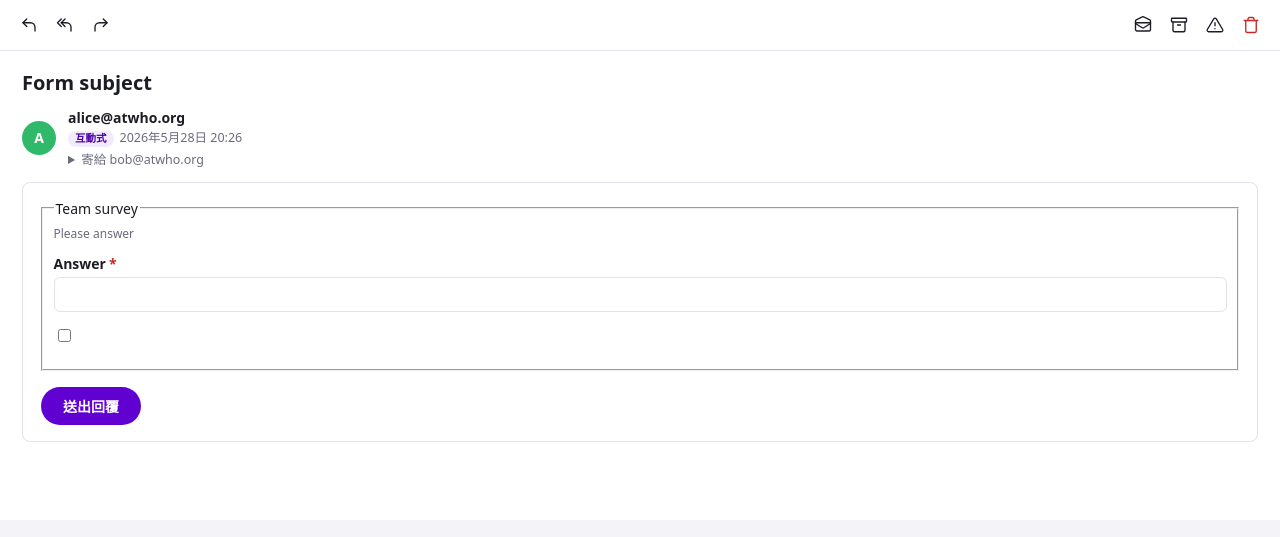
Test: ReadingPane：互動式表單 › GET 成功 → 渲染 RJSF；送出回覆打自家 responses API
Type "my reply" into the field labelled "Answer*" at (640,295), box [54,277,1226,312]
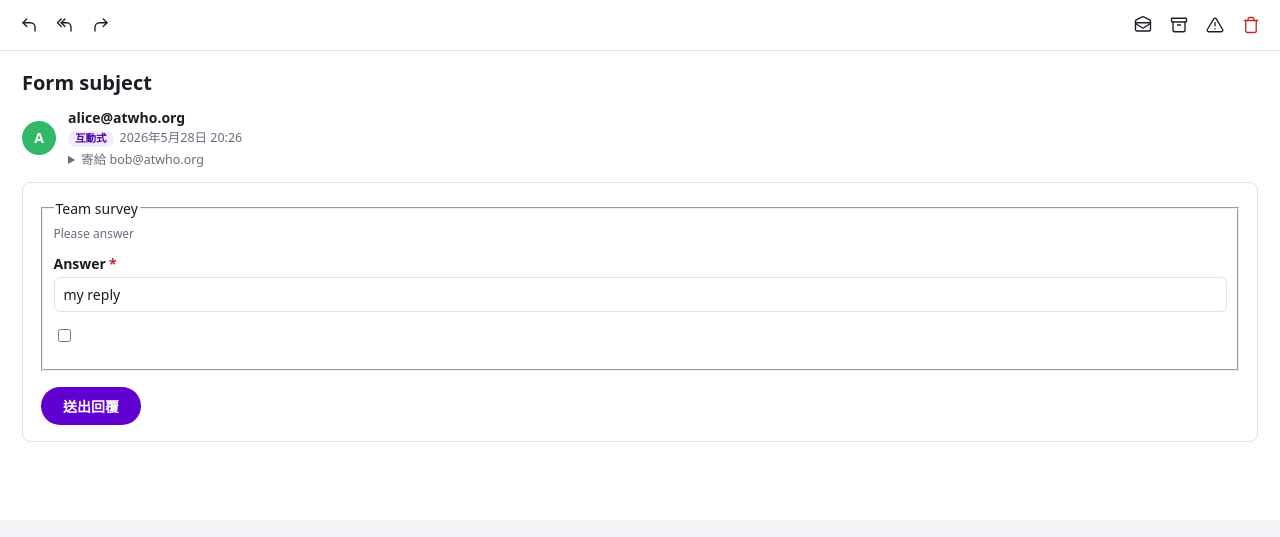
Click the button "送出回覆" at (91,406), box [41,387,141,425]
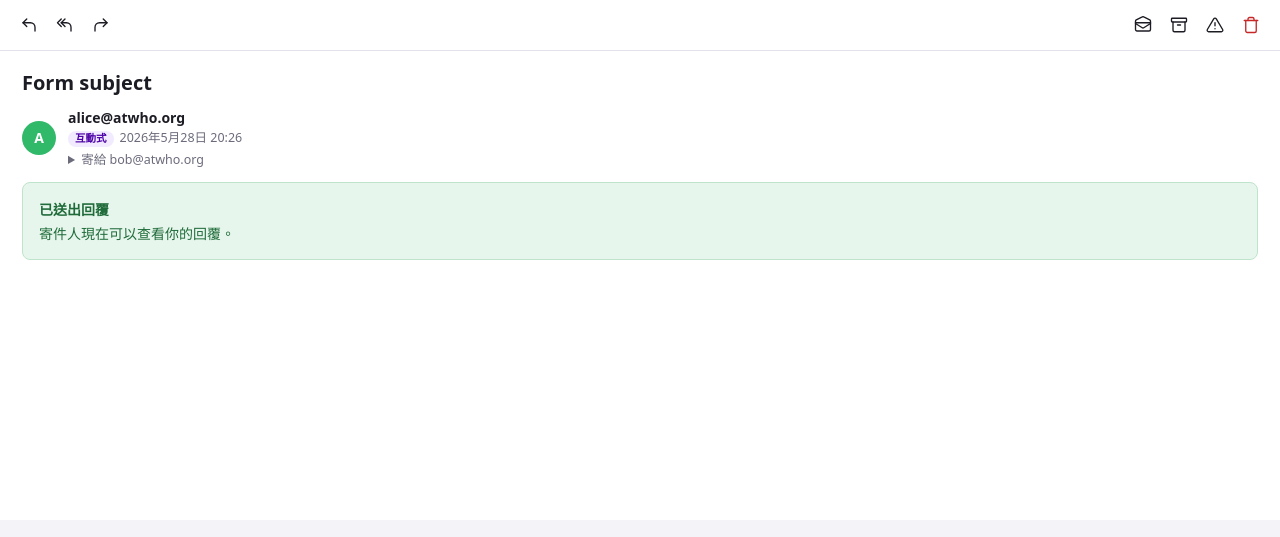
Now the text "已送出回覆" is shown, box [39,200,109,218]
